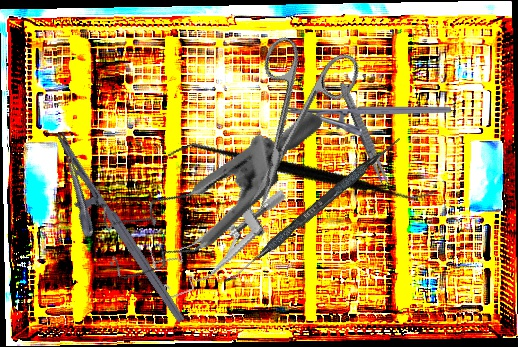Dressing Forceps: (335, 80, 395, 192)
Iris Scissors: (208, 24, 366, 226)
Needle Holder: (30, 130, 186, 340), (287, 106, 451, 136)
Spatula Surgical: (166, 71, 437, 277), (223, 131, 403, 290)
Speculum: (79, 50, 324, 327), (143, 187, 305, 301)
